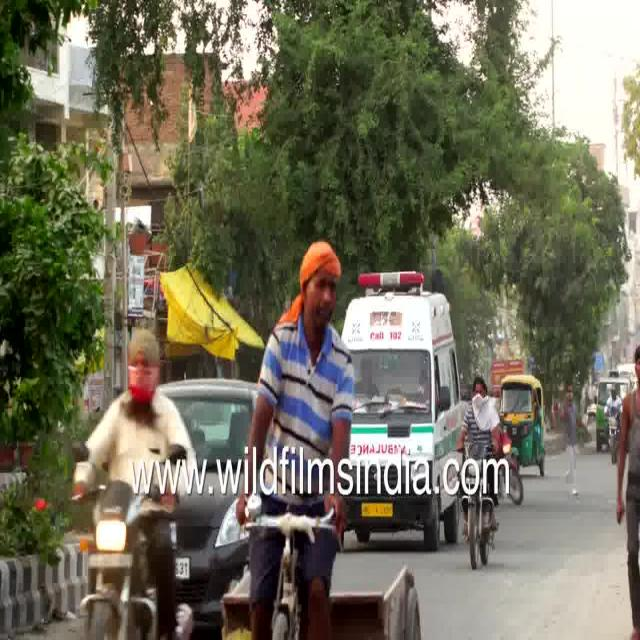ambulance: (355, 253, 473, 453)
